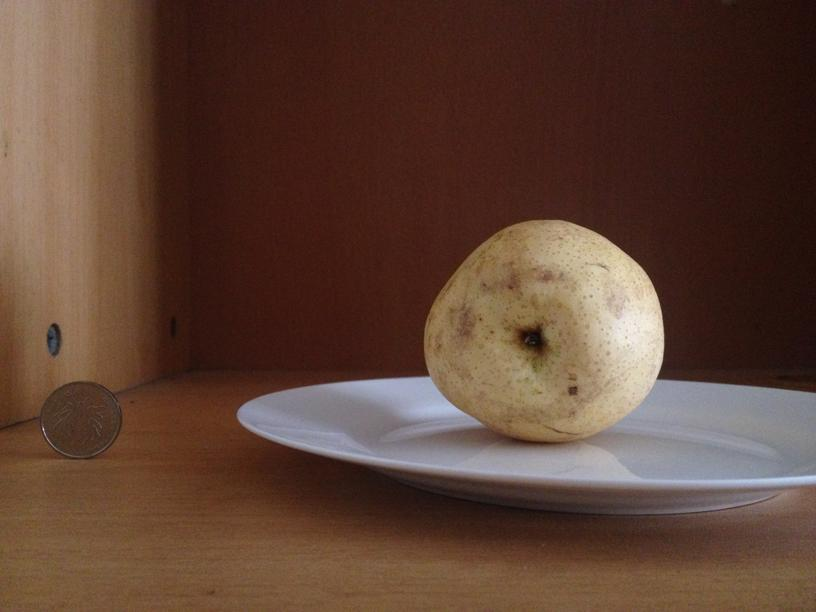coin: (38, 380, 122, 459)
pear: (423, 221, 664, 441)
